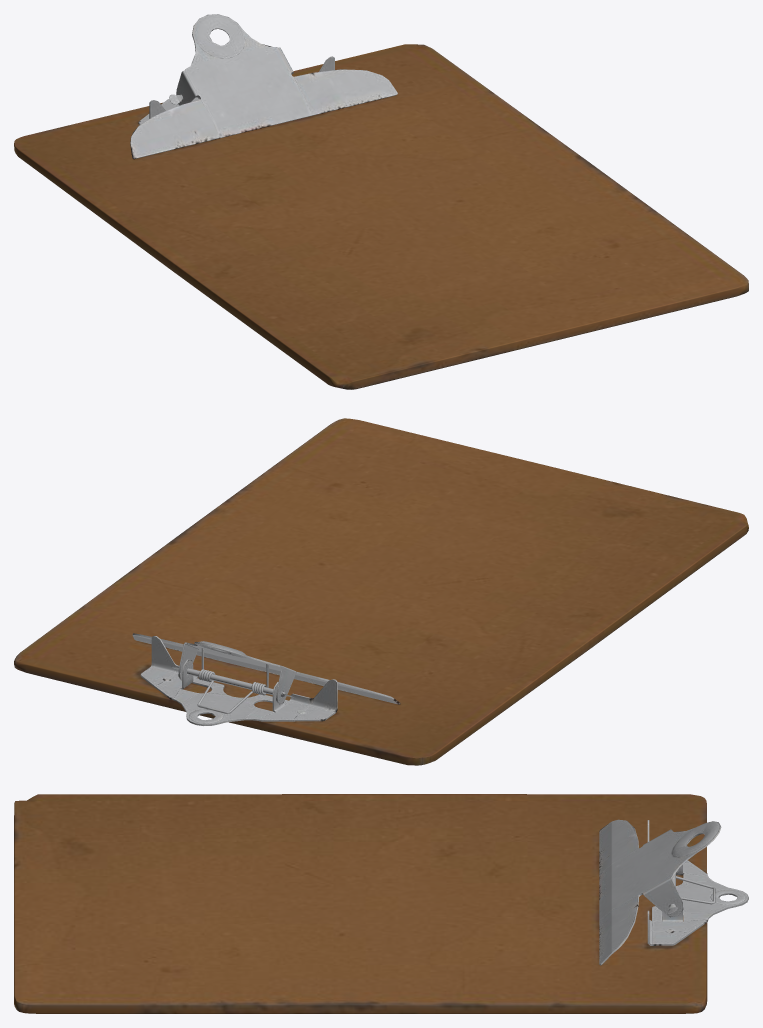
The model's file is clipboard.glb.
3 views of the same model, one above another, from view 1: azimuth 30°, elevation 25°; view 2: azimuth 150°, elevation 25°; view 3: azimuth 270°, elevation 25° (orthographic). The views are drawn at different scales.
Visible parts, largest first — view 1: clipboard; view 2: clipboard; view 3: clipboard.
Boxes of the visible parts, x1,y1,x2,y2 form: clipboard: (14,14,748,389); clipboard: (14,418,748,765); clipboard: (14,794,748,1013).
Size of the model in its own units: 0.2285 by 0.042 by 0.3364.
1 material, 1 textured.
